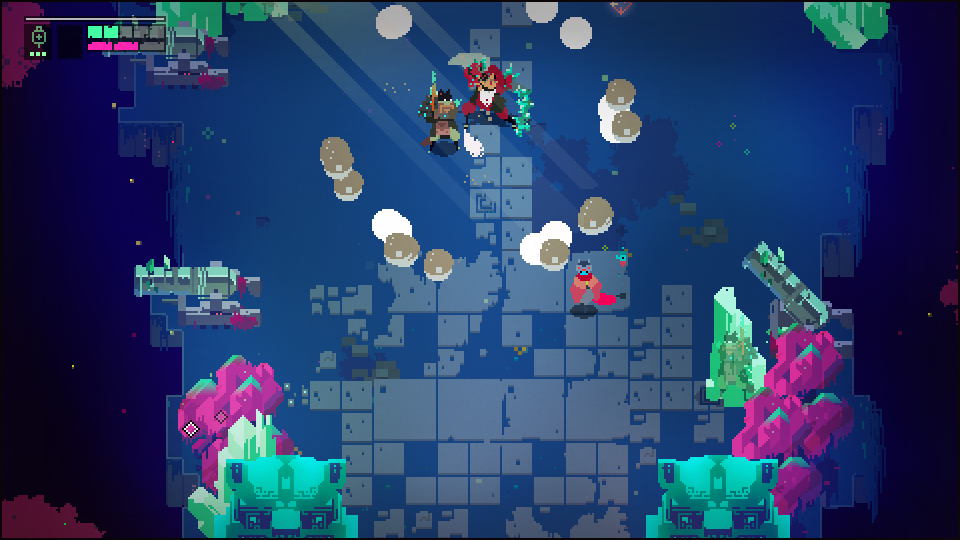hanged_man: (448, 56, 531, 132)
player: (567, 262, 608, 311)
